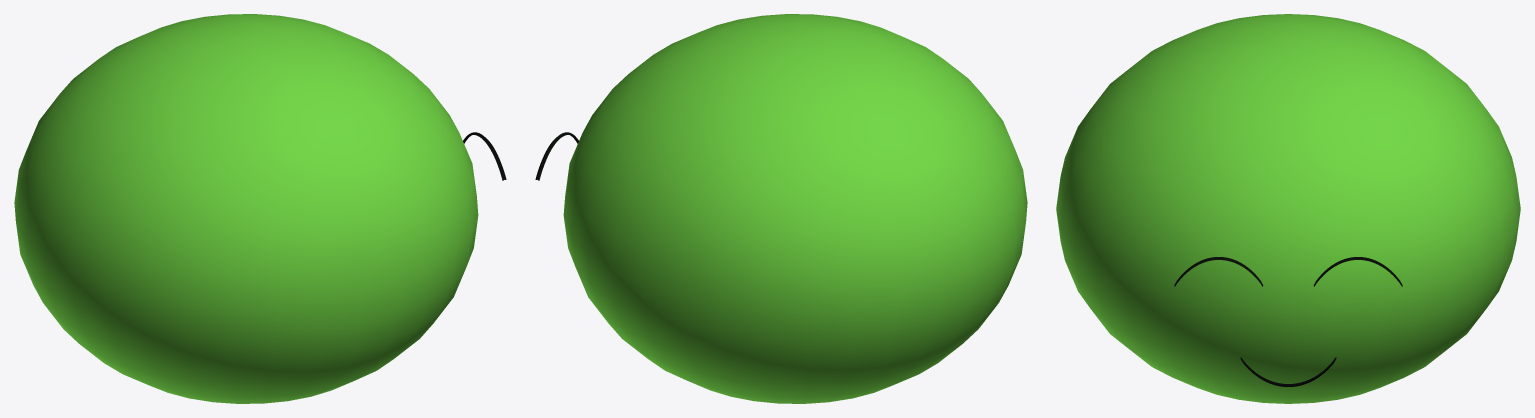
File: greenslime.dae
3 views of the same model, side by side, from view 1: azimuth 30°, elevation 25°; view 2: azimuth 150°, elevation 25°; view 3: azimuth 270°, elevation 25° (orthographic).
Visible parts, largest first — view 1: greensilme; view 2: greensilme; view 3: greensilme.
Part boxes in pixels (<box>): greensilme: <box>14,14,506,403</box>; greensilme: <box>535,14,1027,403</box>; greensilme: <box>1056,14,1520,403</box>.
Size of the model in its own units: 2.01 by 2 by 1.6.
